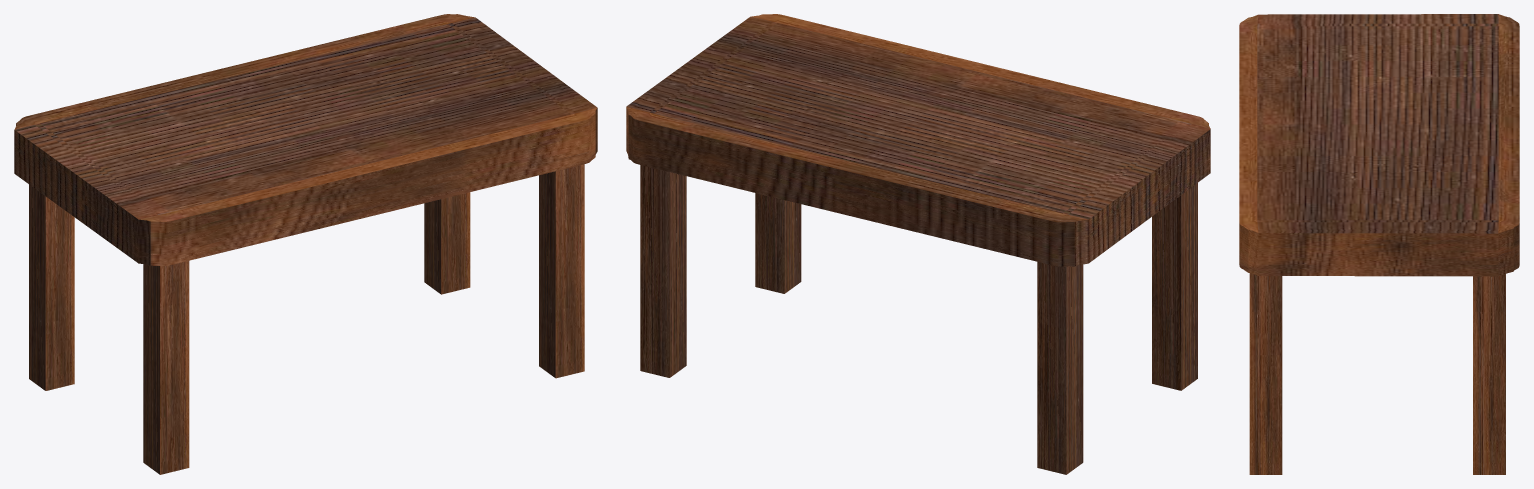
The model's file is SimpleTable.glb.
The picture shows the model from 3 angles, left to right: view 1: azimuth 30°, elevation 25°; view 2: azimuth 150°, elevation 25°; view 3: azimuth 270°, elevation 25°; orthographic projection. The views are drawn at different scales.
Visible parts, largest first — view 1: SimpleTable, Leg.003, Leg.002, Leg.001, Leg; view 2: SimpleTable, Leg.001, Leg, Leg.003, Leg.002; view 3: SimpleTable, Leg.002, Leg.
Boxes of the visible parts, box(x1,y1,x2,y2) form: SimpleTable: box(14, 14, 597, 265); Leg.003: box(143, 261, 189, 474); Leg.002: box(539, 164, 584, 378); Leg.001: box(29, 184, 74, 390); Leg: box(424, 192, 470, 294); SimpleTable: box(626, 14, 1210, 266); Leg.001: box(1037, 262, 1083, 474); Leg: box(640, 165, 686, 377); Leg.003: box(1152, 183, 1197, 390); Leg.002: box(755, 193, 801, 293); SimpleTable: box(1239, 14, 1519, 276); Leg.002: box(1249, 273, 1282, 474); Leg: box(1473, 274, 1505, 474).
Bounding box in the file's own units: 3.71 × 1.97 × 2.
Materials: 1 (1 with a texture image).
